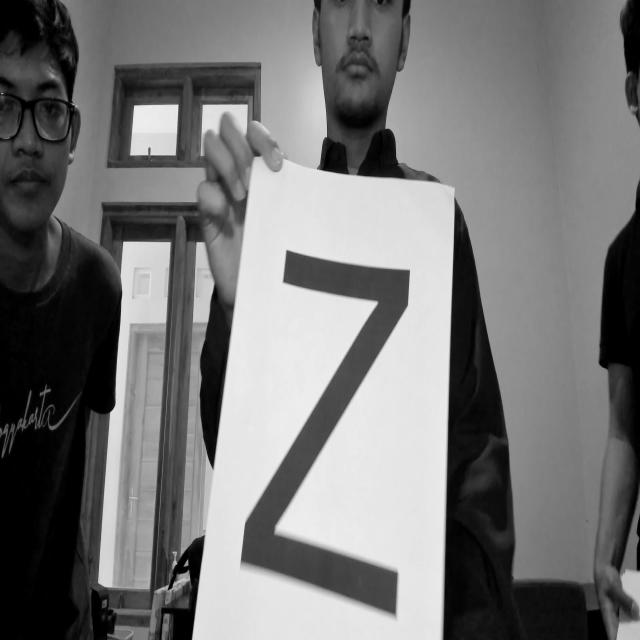z: (234, 236, 416, 640)
